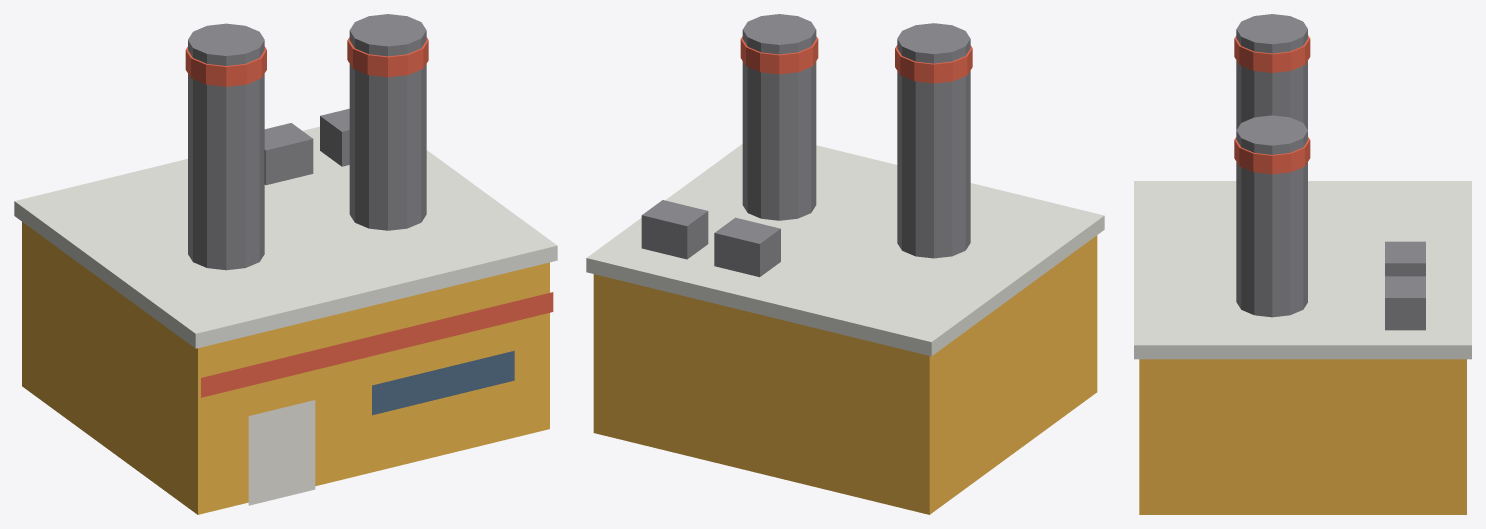
File: small_power_plant.glb
The picture shows the model from 3 angles, left to right: view 1: azimuth 30°, elevation 25°; view 2: azimuth 150°, elevation 25°; view 3: azimuth 270°, elevation 25°; orthographic projection. The views are drawn at different scales.
Parts seen in each view (by area): view 1: small_power_plant; view 2: small_power_plant; view 3: small_power_plant.
Boxes of the visible parts, <box> form: small_power_plant: <box>14,14,557,514</box>; small_power_plant: <box>586,14,1104,514</box>; small_power_plant: <box>1134,14,1471,514</box>.
Bounding box in the file's own units: 0.76 × 0.8 × 0.662.
